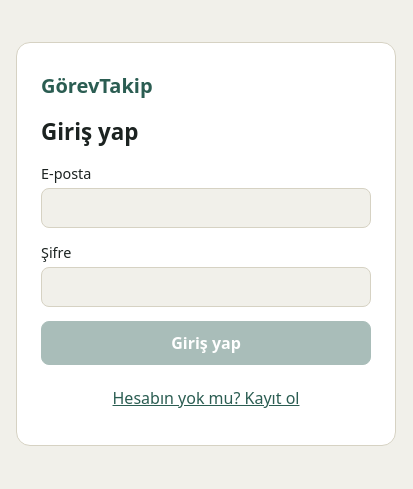
Test: AuthForm: giriş modu › hata dönerse mesajı uyarı olarak gösterir ve yazılanları silmez
The width and height of the screenshot is (413, 489).
Type "ali@ornek.com" into the field labelled "E-posta" at {"x": 206, "y": 208}, box [41,188,371,228]
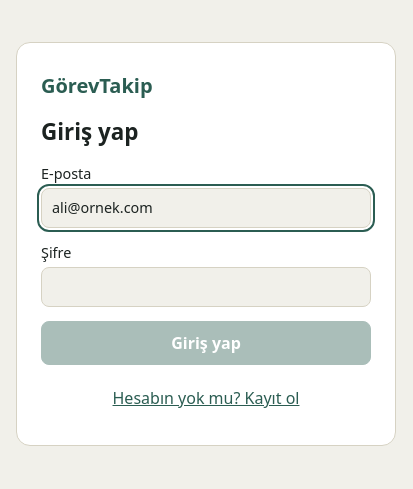
Type "yanlis" into the password field labelled "Şifre" at {"x": 206, "y": 287}, box [41,267,371,307]
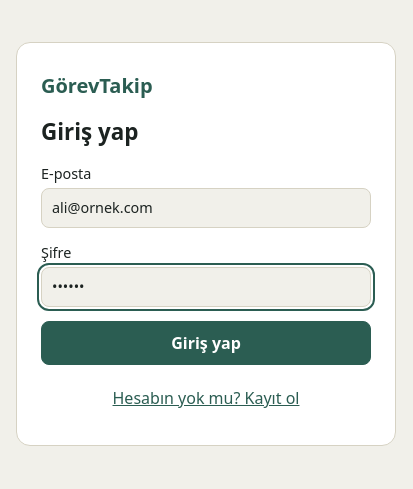
Click the button "Giriş yap" at {"x": 206, "y": 343}, box [41,321,371,365]
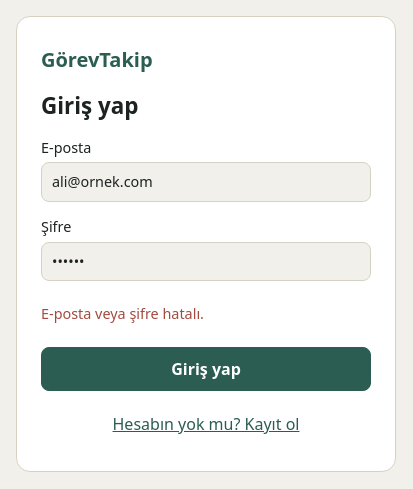
Expected: the button "Giriş yap" is enabled, [41,347,371,391]
Expected: the message reads "E-posta veya şifre hatalı.", [41,304,204,323]
